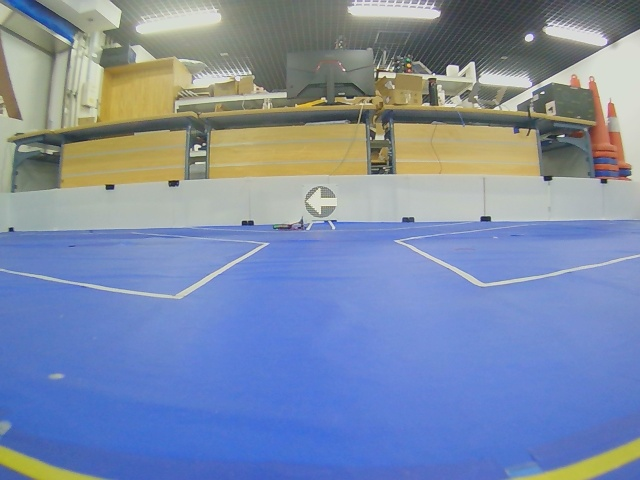left_yellow: (305, 186, 337, 218)
